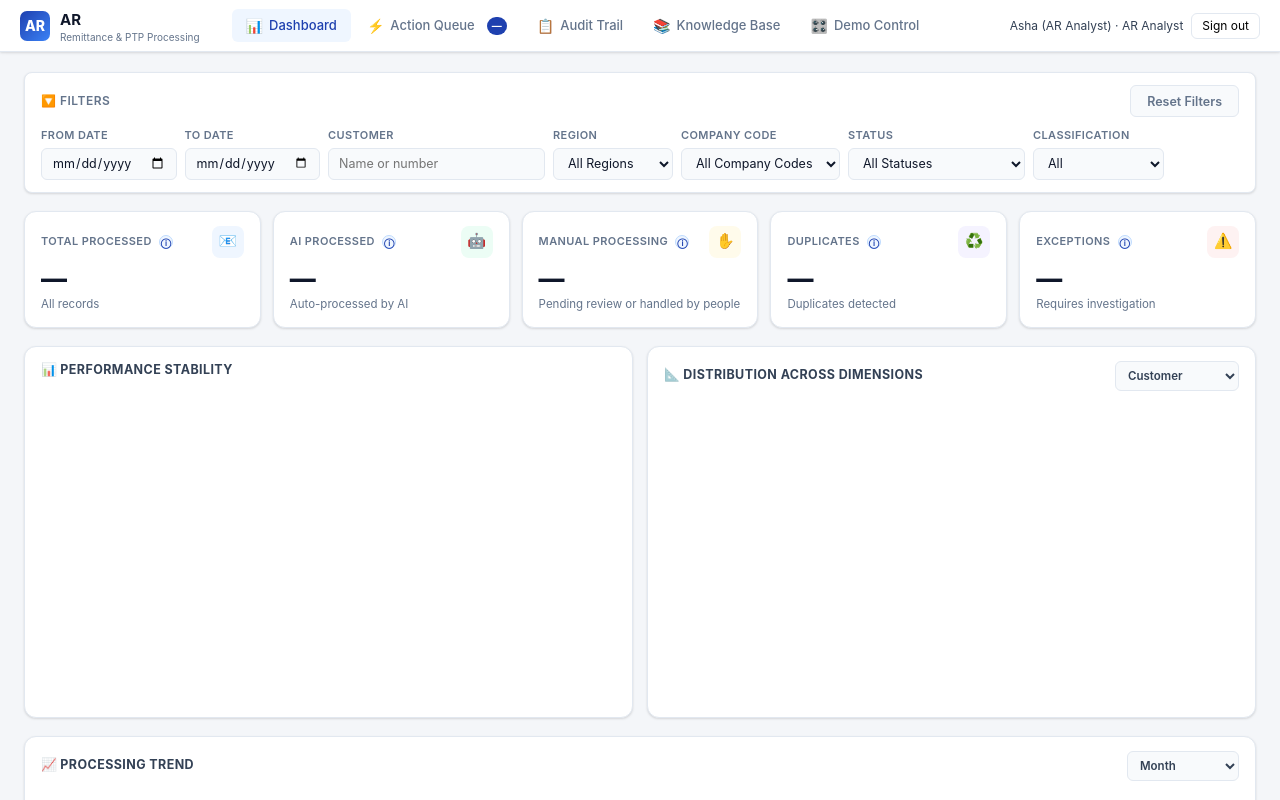
Test: signing out returns to the login screen
Step 1. Click the button "Sign out" → (1226, 26), box 1191,12 -> 1260,38
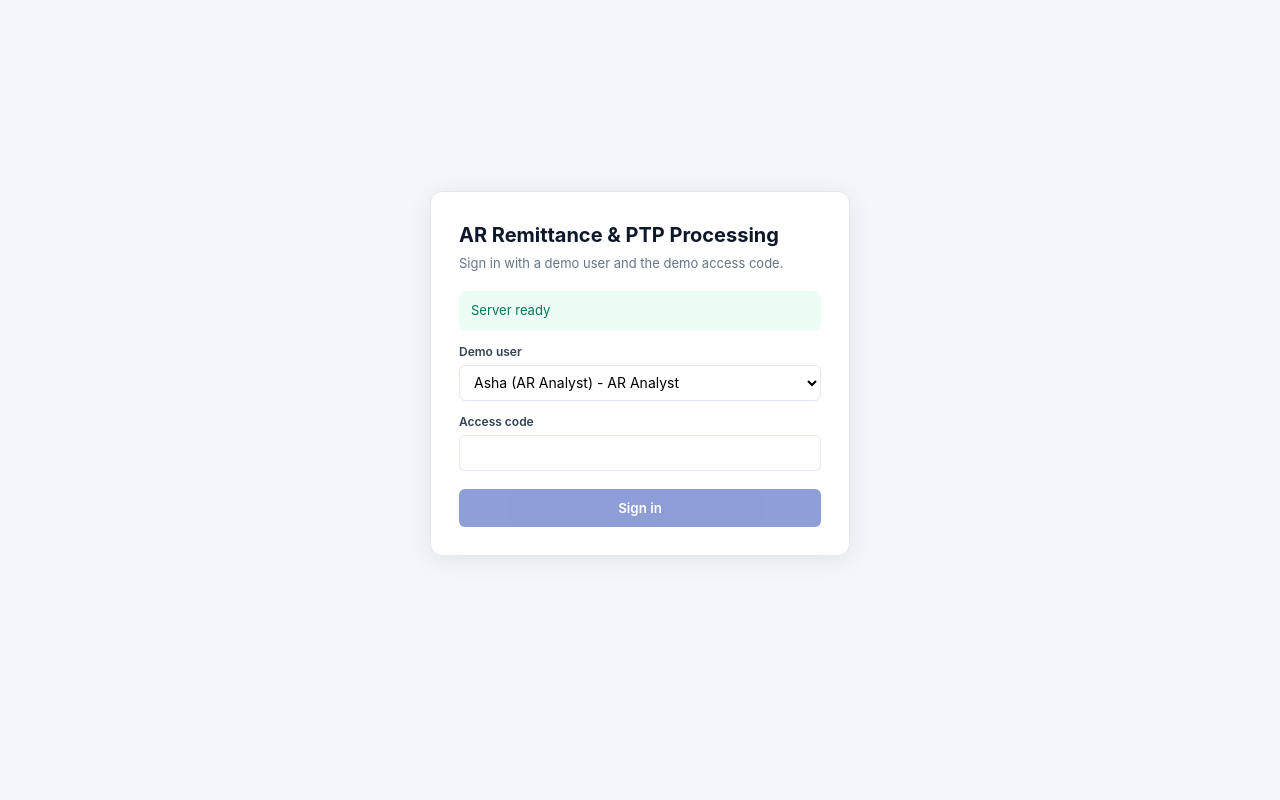
Result: the password field labelled "Access code" is shown at 459,434 -> 821,470
